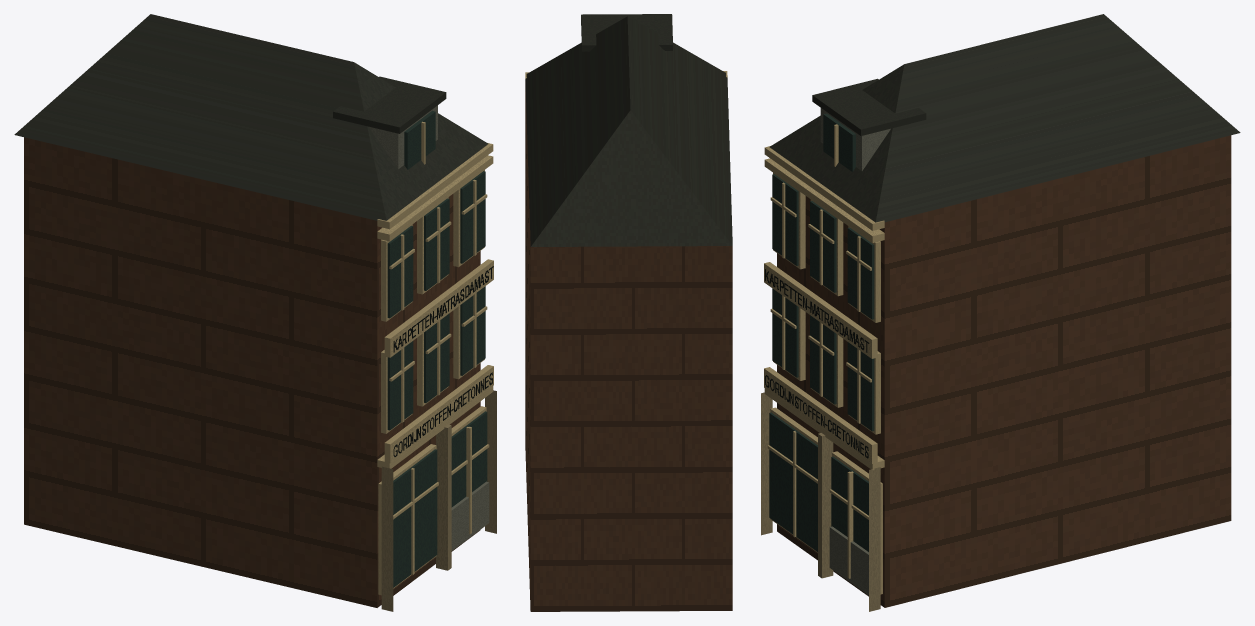
3 views of the same model, side by side, from view 1: azimuth 30°, elevation 25°; view 2: azimuth 150°, elevation 25°; view 3: azimuth 270°, elevation 25° (orthographic). The views are drawn at different scales.
Parts seen in each view (by area): view 1: nieuwehaven29-0, nieuwehaven29-1, nieuwehaven29-3, nieuwehaven29-2, nieuwehaven29-5, nieuwehaven29-4, nieuwehaven29-6; view 2: nieuwehaven29-0, nieuwehaven29-1; view 3: nieuwehaven29-0, nieuwehaven29-1, nieuwehaven29-3, nieuwehaven29-2, nieuwehaven29-5, nieuwehaven29-4, nieuwehaven29-6.
Part boxes in pixels (x1,y1,x2,y2): nieuwehaven29-0: (24,137,480,607); nieuwehaven29-1: (14,14,488,220); nieuwehaven29-3: (387,110,487,587); nieuwehaven29-2: (377,121,493,595); nieuwehaven29-5: (381,390,496,611); nieuwehaven29-4: (369,105,489,550); nieuwehaven29-6: (393,266,493,456); nieuwehaven29-0: (525,81,732,611); nieuwehaven29-1: (525,14,732,246); nieuwehaven29-0: (777,135,1231,607); nieuwehaven29-1: (769,14,1240,222); nieuwehaven29-3: (769,113,874,551); nieuwehaven29-2: (764,124,884,594); nieuwehaven29-5: (761,392,880,611); nieuwehaven29-4: (820,108,890,595); nieuwehaven29-6: (765,269,869,458).
Size of the model in its own units: 8.99 by 12 by 10.71.
7 materials, 7 textured.
